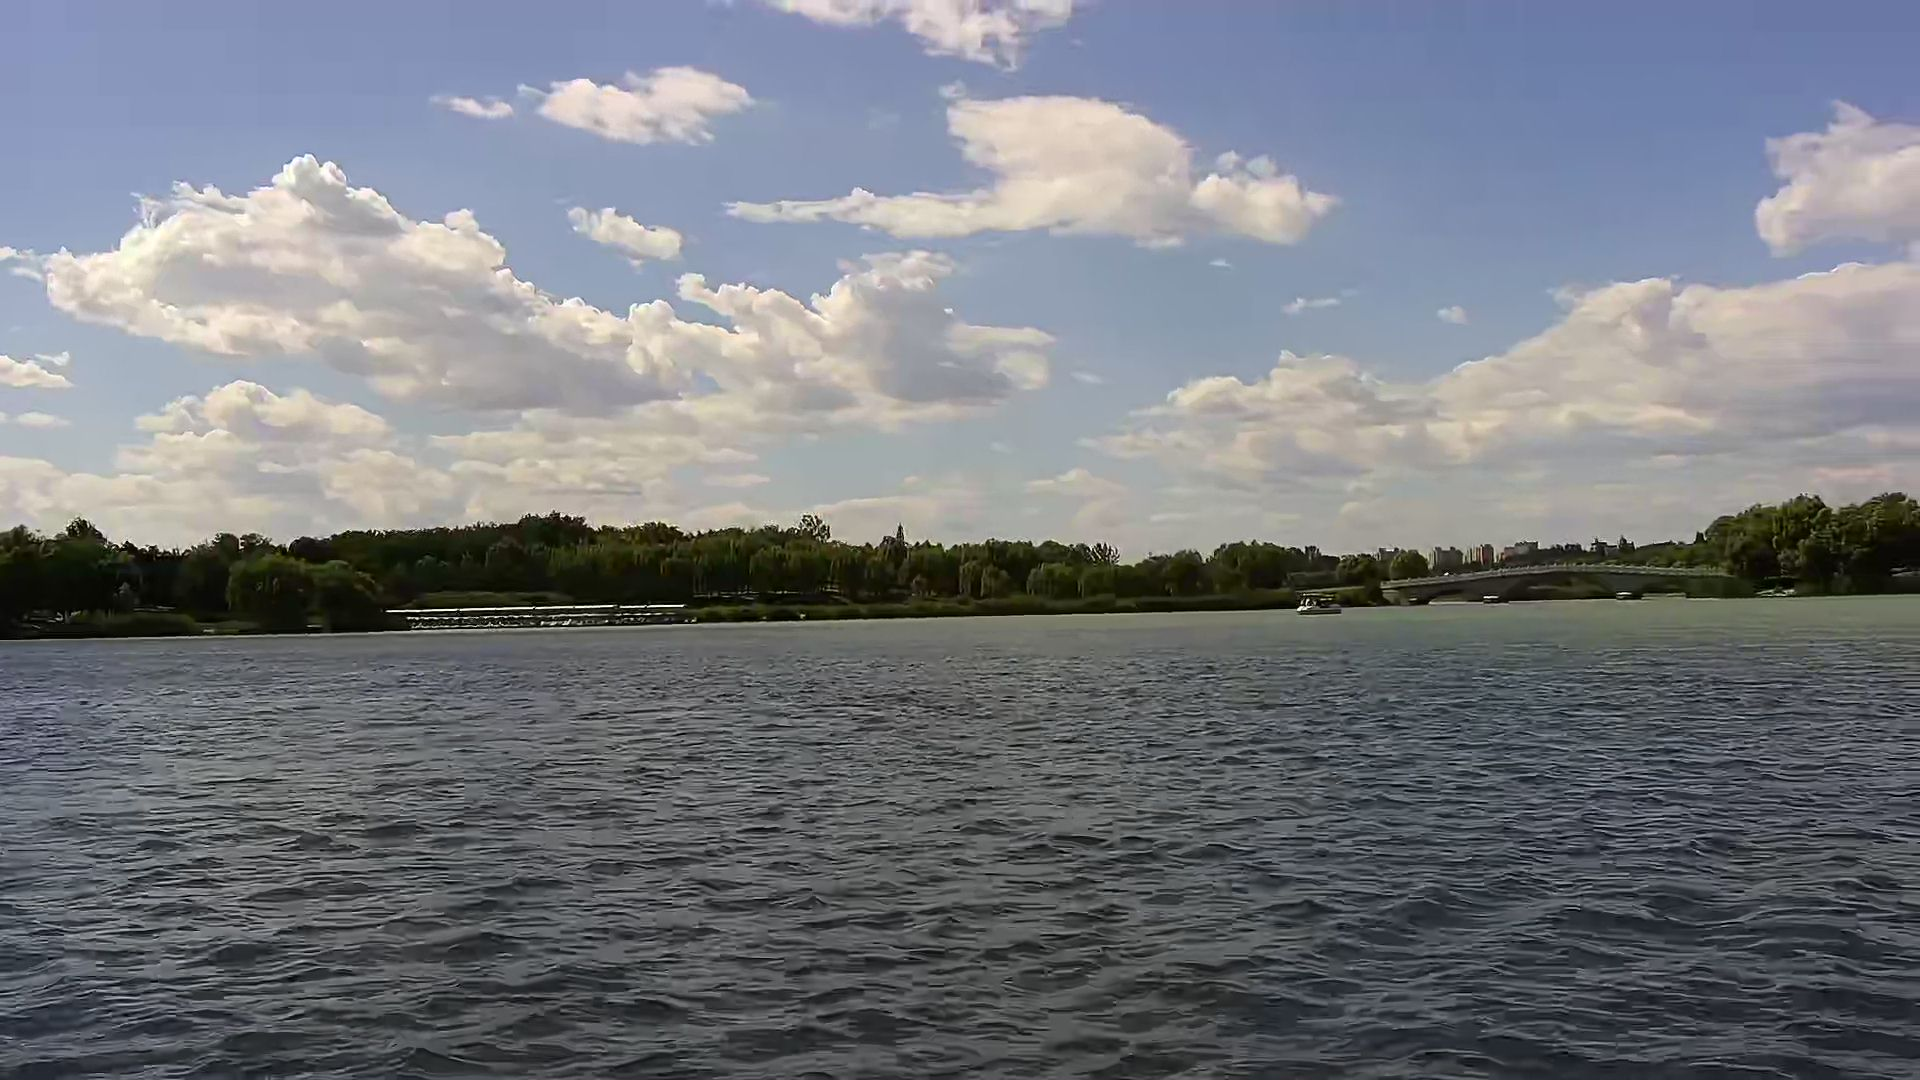boat: (1296, 592, 1345, 616)
bridge: (1369, 564, 1734, 607), (396, 607, 686, 626)
